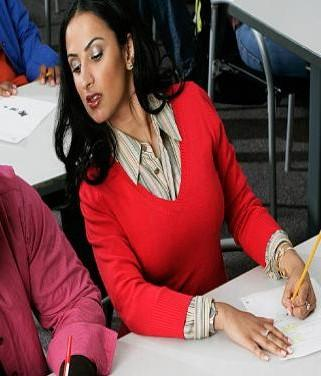cheating: (53, 2, 321, 366)
